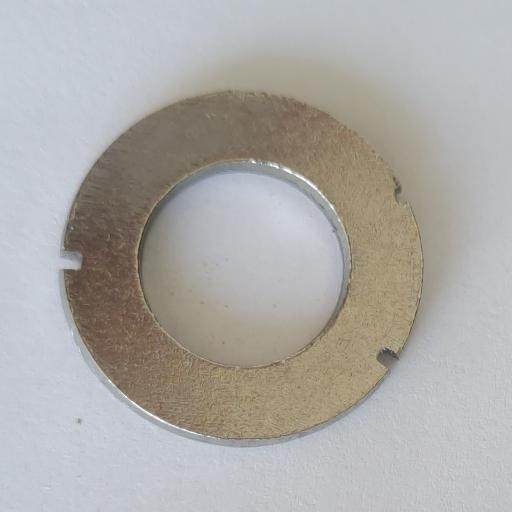burr: (55, 246, 85, 275), (376, 346, 401, 372), (390, 183, 412, 209)
